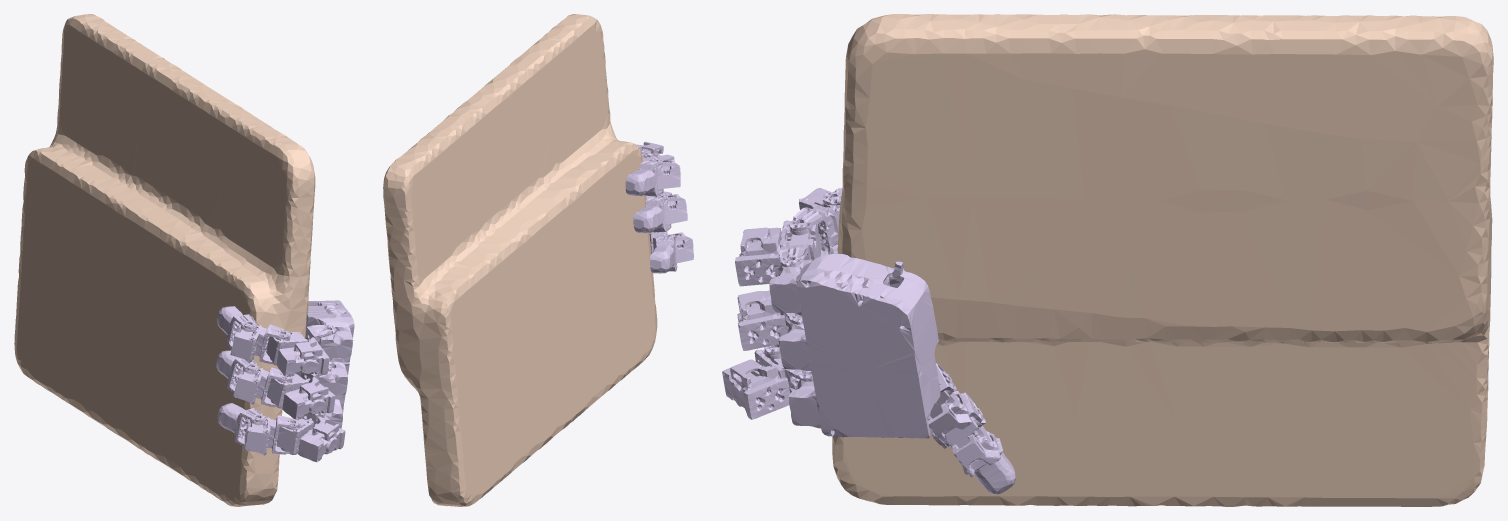
The picture shows the model from 3 angles, left to right: view 1: azimuth 30°, elevation 25°; view 2: azimuth 150°, elevation 25°; view 3: azimuth 270°, elevation 25°; orthographic projection. The views are drawn at different scales.
Parts seen in each view (by area): view 1: world, LEAP_hand; view 2: world, LEAP_hand; view 3: world, LEAP_hand.
Part boxes in pixels (x1,y1,x2,y2): world: [14, 14, 315, 506]; LEAP_hand: [216, 300, 354, 462]; world: [383, 14, 657, 506]; LEAP_hand: [625, 141, 693, 273]; world: [832, 14, 1493, 506]; LEAP_hand: [722, 187, 1015, 494].
Bounding box in the file's own units: 0.1641 × 0.4003 × 0.5379.
